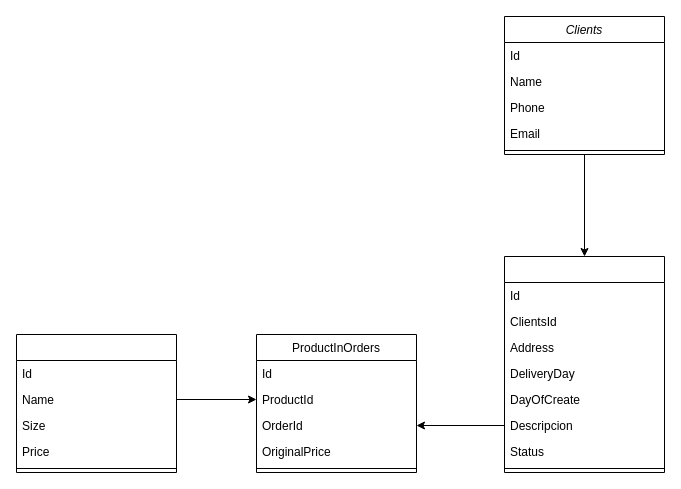
The diagram is 681 pixels wide and 489 high, and some of its shapes have lost their labels. Each missing label, with the box of its shape:
Order: (504, 256, 664, 472)
Product: (16, 334, 176, 472)
